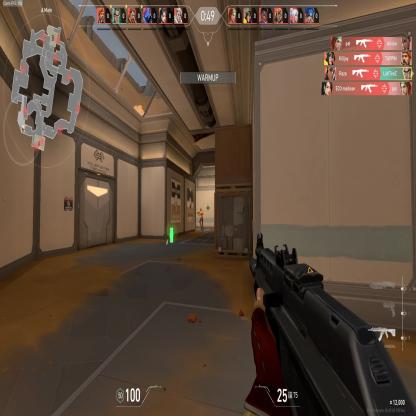enemy: (198, 206, 204, 231)
